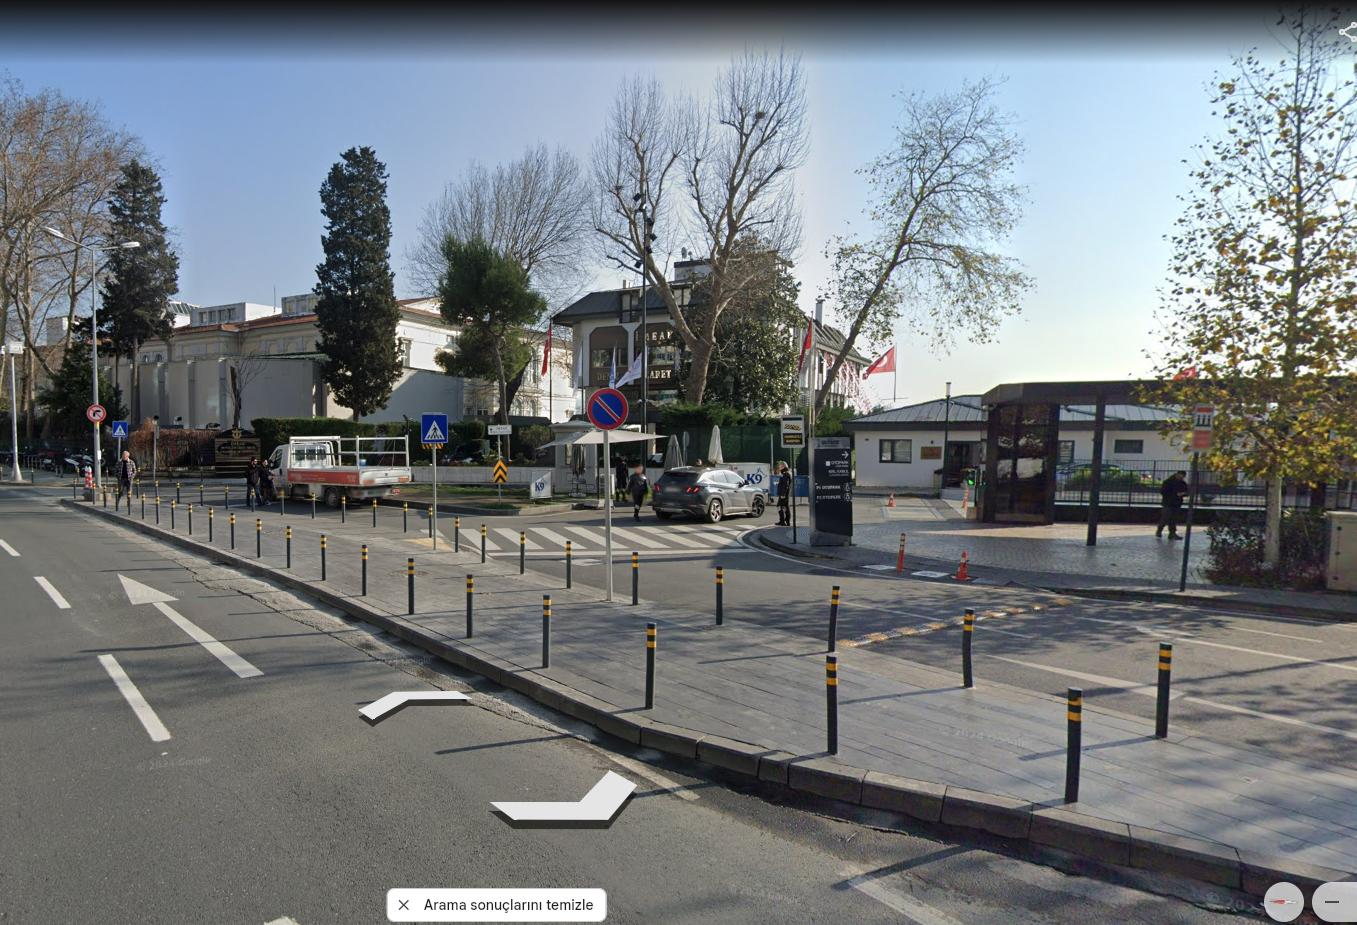rightturnsareforbidden: (84, 401, 111, 426)
